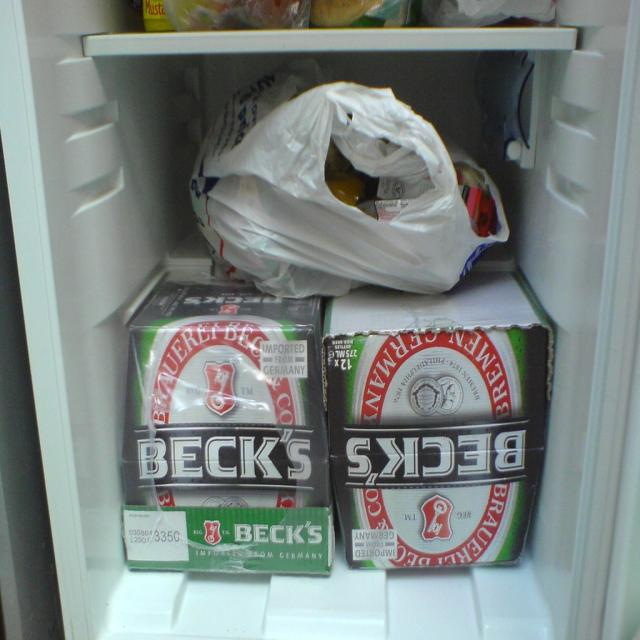becks: (345, 329, 530, 565), (128, 315, 318, 508)
